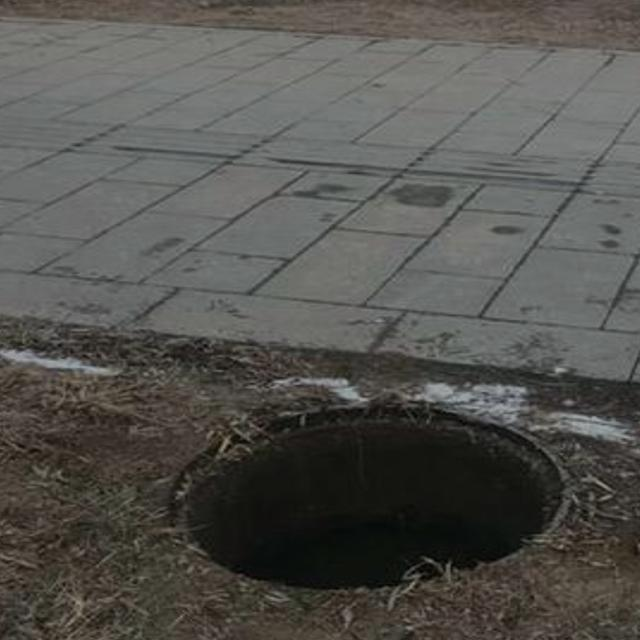lose: (128, 377, 640, 622)
